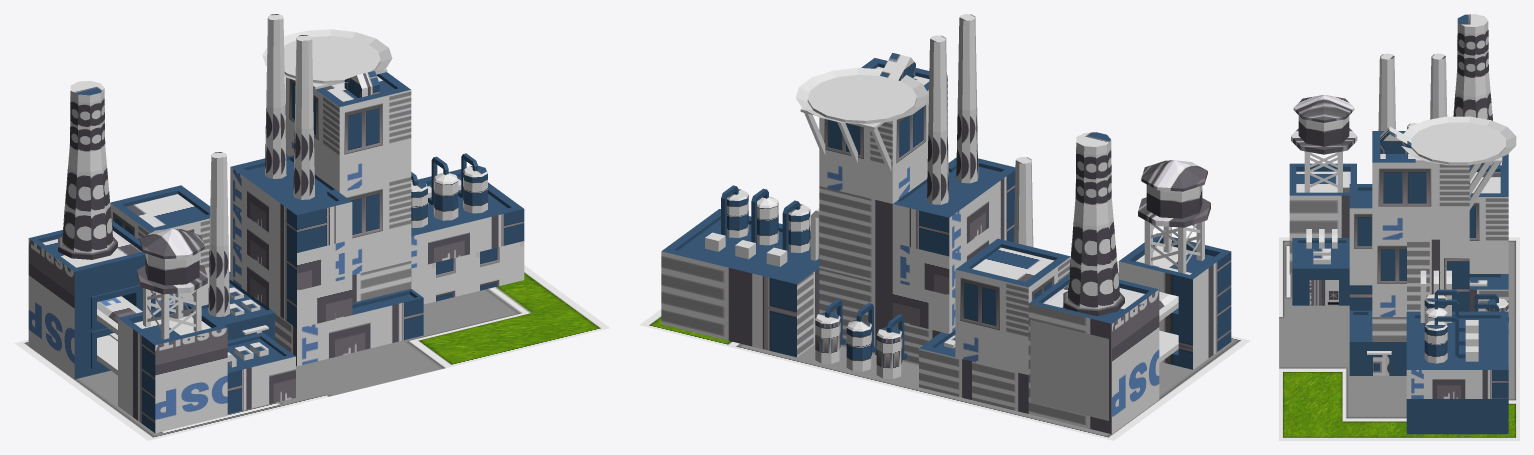
File: Smelter_Plant_lvl_Huge.fbx
3 views of the same model, side by side, from view 1: azimuth 30°, elevation 25°; view 2: azimuth 150°, elevation 25°; view 3: azimuth 270°, elevation 25° (orthographic). The views are drawn at different scales.
Visible parts, largest first — view 1: Smelter_Plant_Huge, Smelter_Plant_BG_Huge, HelicopterPlace, HelicopterPlace_Alpha_DoubleSided, Smelter_Plant_Huge.001; view 2: Smelter_Plant_Huge, Graffiti_001, Smelter_Plant_BG_Huge, HelicopterPlace, HelicopterPlace_Alpha_DoubleSided, Smelter_Plant_Huge.001; view 3: Smelter_Plant_Huge, Smelter_Plant_BG_Huge, HelicopterPlace, HelicopterPlace_Alpha_DoubleSided, Smelter_Plant_Huge.001.
Boxes of the visible parts, x1,y1,x2,y2 form: Smelter_Plant_Huge: (28, 14, 524, 433); Smelter_Plant_BG_Huge: (15, 265, 609, 440); HelicopterPlace: (284, 36, 387, 114); HelicopterPlace_Alpha_DoubleSided: (262, 29, 392, 84); Smelter_Plant_Huge.001: (147, 290, 195, 332); Smelter_Plant_Huge: (661, 14, 1231, 434); Graffiti_001: (1030, 320, 1108, 420); Smelter_Plant_BG_Huge: (639, 309, 1250, 440); HelicopterPlace: (800, 74, 916, 171); HelicopterPlace_Alpha_DoubleSided: (795, 68, 928, 123); Smelter_Plant_Huge.001: (1151, 223, 1200, 266); Smelter_Plant_Huge: (1289, 14, 1508, 434); Smelter_Plant_BG_Huge: (1279, 237, 1519, 440); HelicopterPlace: (1411, 122, 1505, 209); HelicopterPlace_Alpha_DoubleSided: (1401, 116, 1516, 165); Smelter_Plant_Huge.001: (1310, 152, 1337, 187).
Size of the model in its own units: 4000 by 2530 by 2000.
